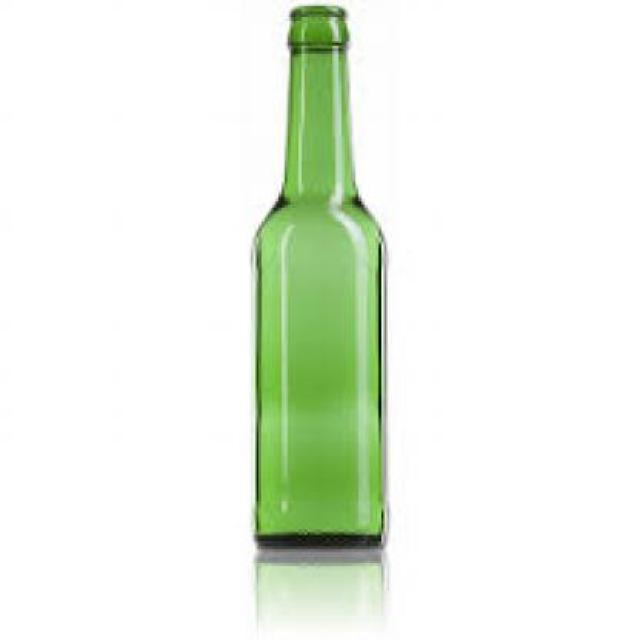kaca: (251, 3, 386, 546)
